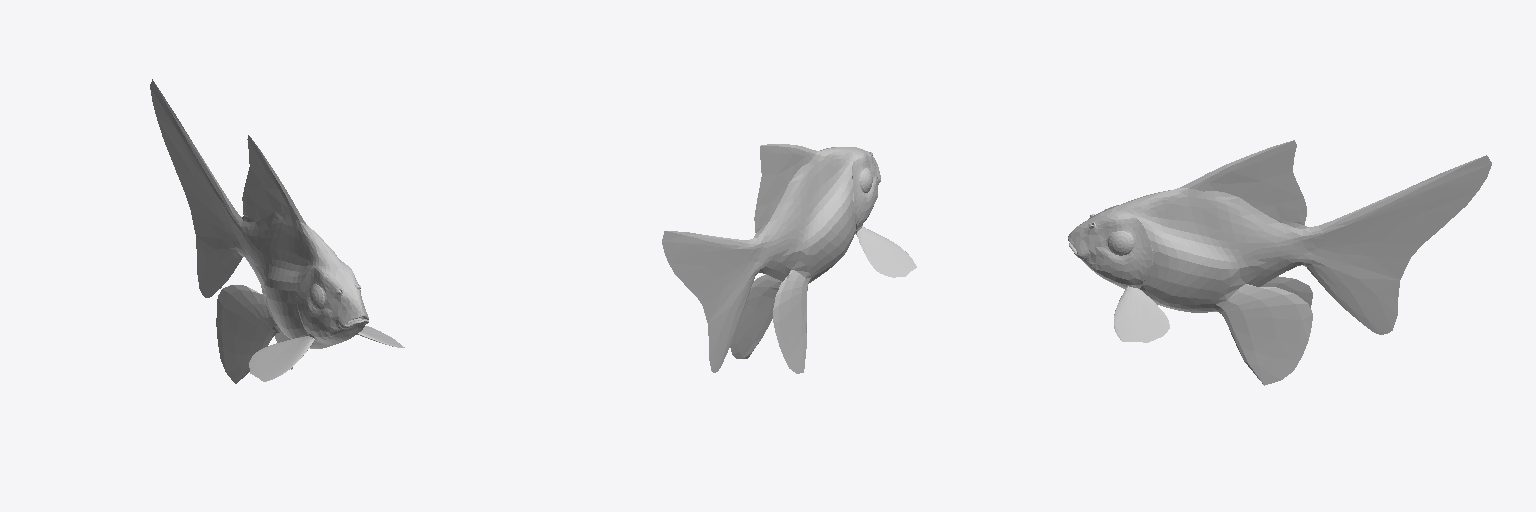
File: GOLDFISH.OBJ
3 views of the same model, side by side, from view 1: azimuth 30°, elevation 25°; view 2: azimuth 150°, elevation 25°; view 3: azimuth 270°, elevation 25° (orthographic).
Parts seen in each view (by area): view 1: gf_body; view 2: gf_body; view 3: gf_body.
Boxes of the visible parts, x1,y1,x2,y2 form: gf_body: [150, 79, 404, 383]; gf_body: [662, 144, 916, 373]; gf_body: [1068, 140, 1491, 385].
Bounding box in the file's own units: 0.0269 × 0.0415 × 0.0689.